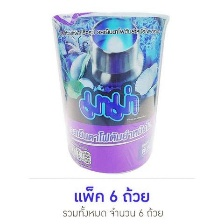paper_cup: (45, 6, 175, 179)
